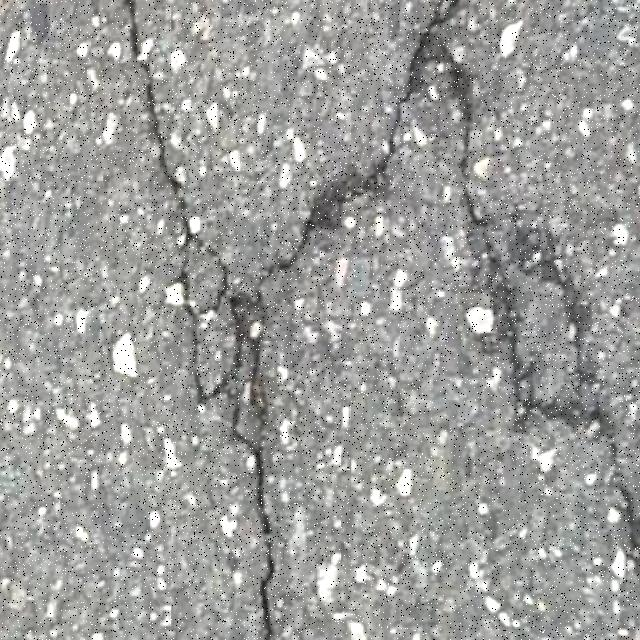Crack: (191, 0, 604, 432), (121, 15, 192, 271), (228, 390, 269, 539), (618, 465, 640, 539), (266, 559, 271, 639)
